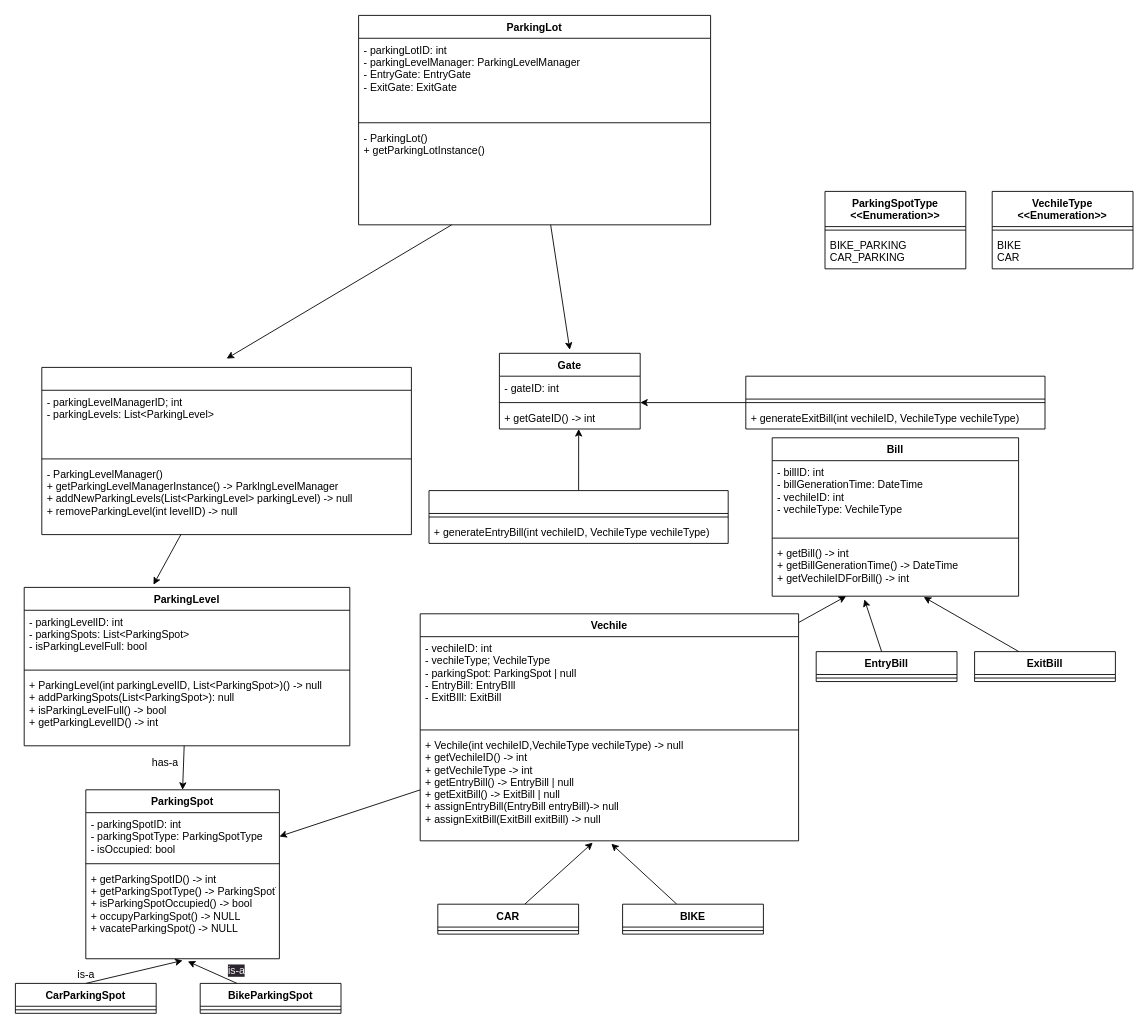
Some shapes in this 1148 by 1029 pixel diagram are drawn without their labels. Here are the shapes that lost their labels. From the top down, the box of each, then its label:
(745, 375, 1045, 429): ExitGate
(41, 367, 411, 535): ParkingLevelManger
(428, 490, 728, 543): EntryGate
